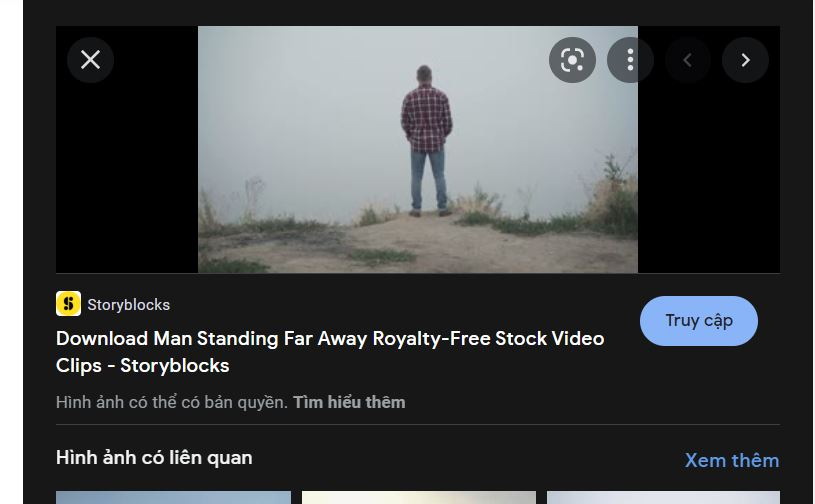person: (401, 65, 452, 217)
